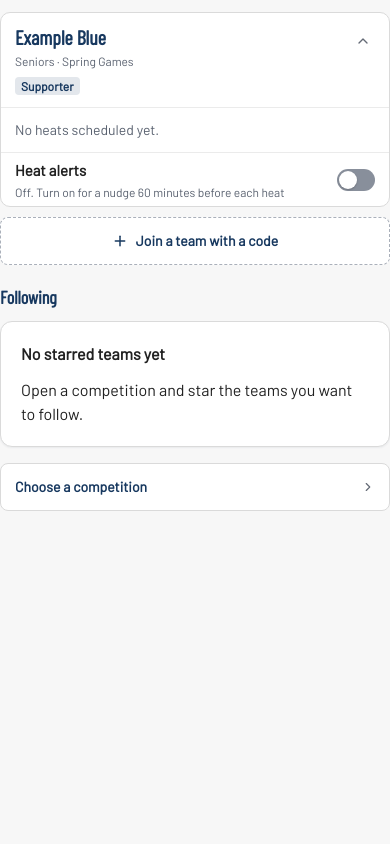
MyTeamsPage joining a team › says the trainer needs to accept, and why a join failed
Click the button "Join a team with a code". click: [195, 241]
box: [0,217,389,265]
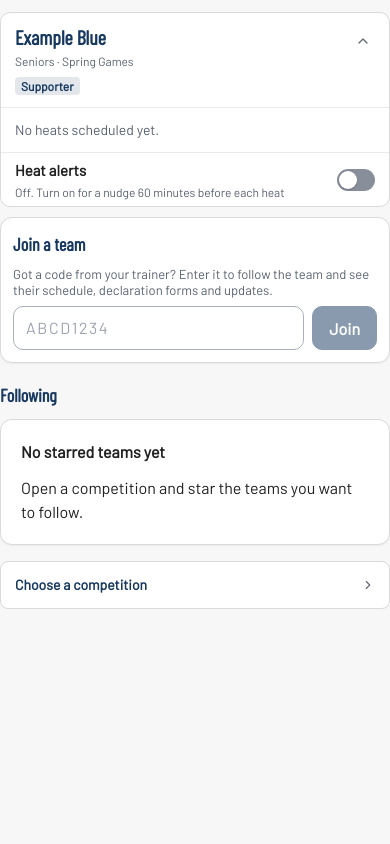
Type "one" into the field named "Team join code". click: [159, 328]
box: [13,306,304,350]
Then press Enter
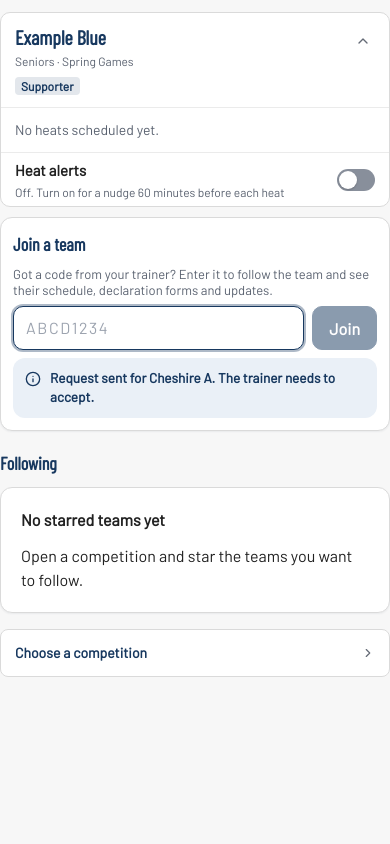
Check: the text "Request sent for Cheshire A. The trainer needs to accept." is shown, box [50,369,365,407]
Type "two" into the field named "Team join code". click: [159, 328]
box: [13,306,304,350]
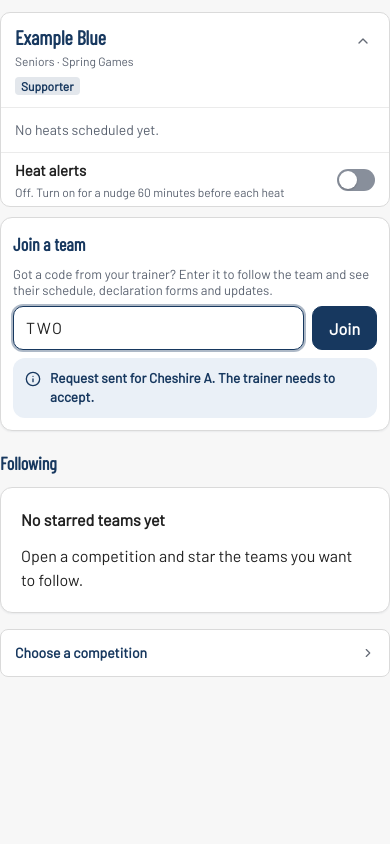
Click the button "Join". click: [345, 328]
box: [312,306,377,350]
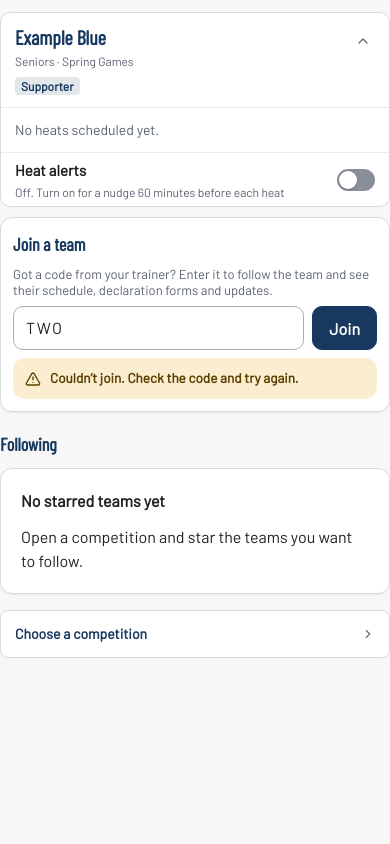
Check: the message reads "Couldn’t join. Check the code and try again.", box [50,369,299,386]
Type "three" into the field named "Team join code". click: [159, 328]
box: [13,306,304,350]
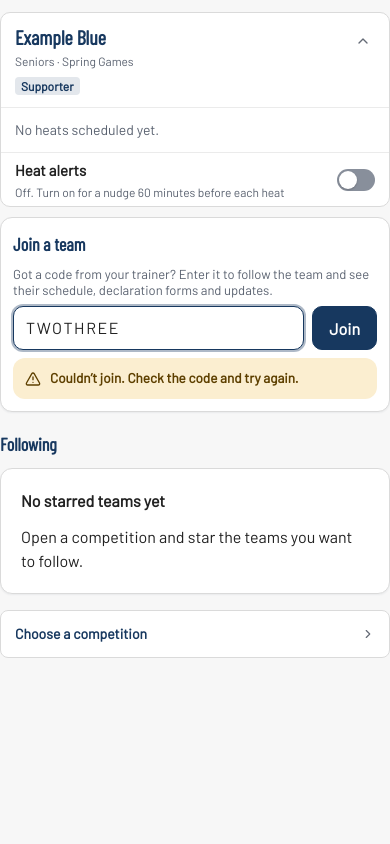
Click the button "Join". click: [345, 328]
box: [312,306,377,350]
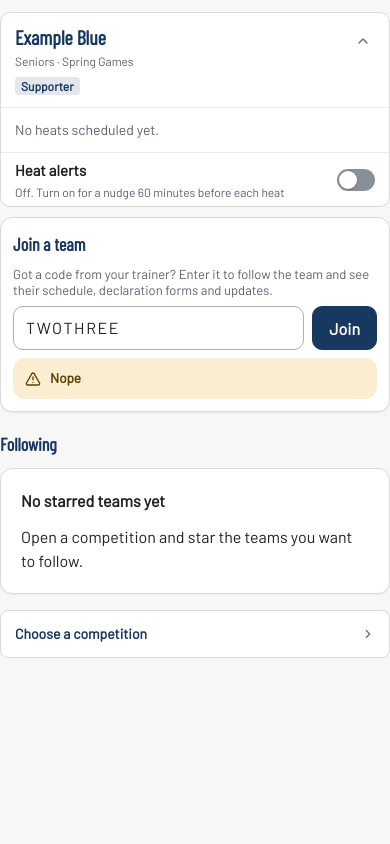
Check: the message reads "Nope", box [50,369,81,386]
